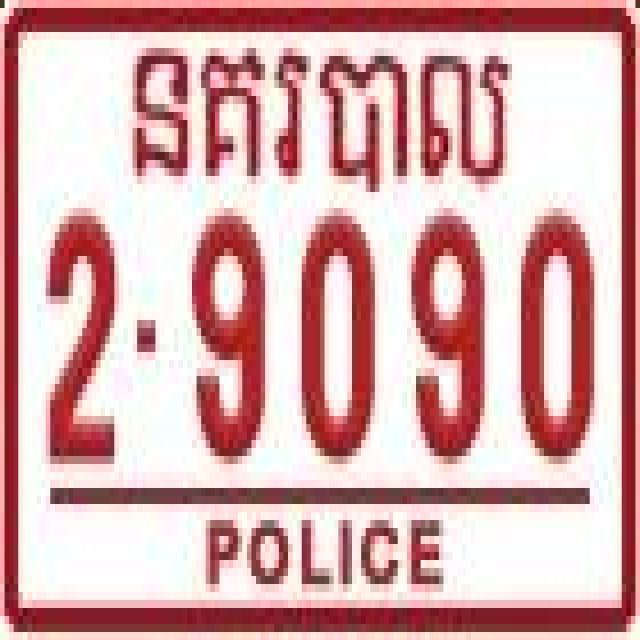Police: (128, 32, 510, 198)
